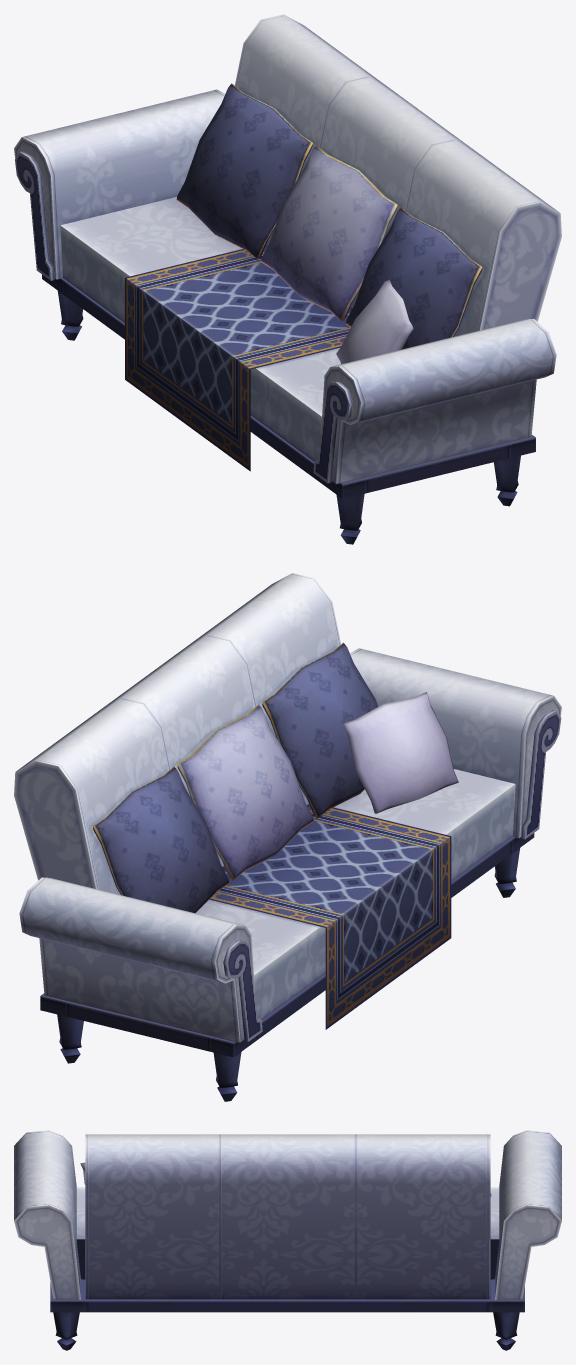
Rendered from my_gehennaparty_01_sofa_01.glb.
The picture shows the model from 3 angles, top to bottom: view 1: azimuth 30°, elevation 25°; view 2: azimuth 150°, elevation 25°; view 3: azimuth 270°, elevation 25°; orthographic projection. The views are drawn at different scales.
Parts seen in each view (by area): view 1: my_gehennaparty_01_sofa_01; view 2: my_gehennaparty_01_sofa_01; view 3: my_gehennaparty_01_sofa_01.
Boxes of the visible parts, box(x1,y1,x2,y2) form: my_gehennaparty_01_sofa_01: box(14, 14, 561, 544); my_gehennaparty_01_sofa_01: box(14, 573, 561, 1101); my_gehennaparty_01_sofa_01: box(14, 1130, 561, 1350).
Size of the model in its own units: 0.00585 by 0.0063 by 0.014.
Materials: 1 (1 with a texture image).
